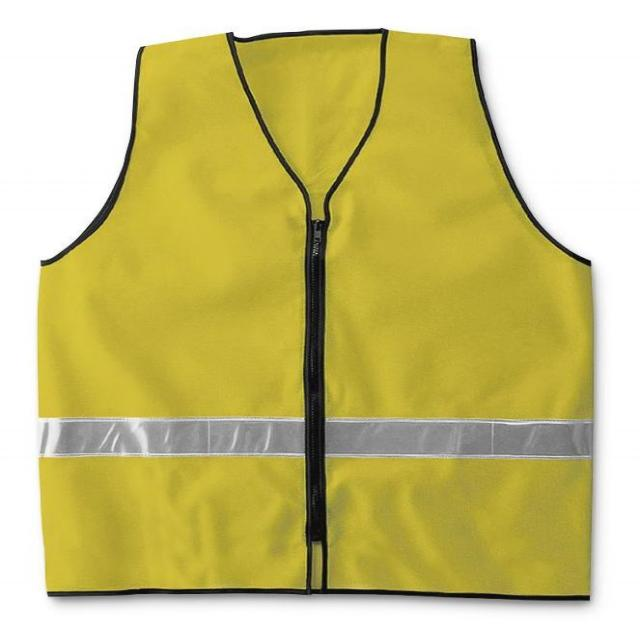Reflective-Jacket: (22, 6, 640, 640)
